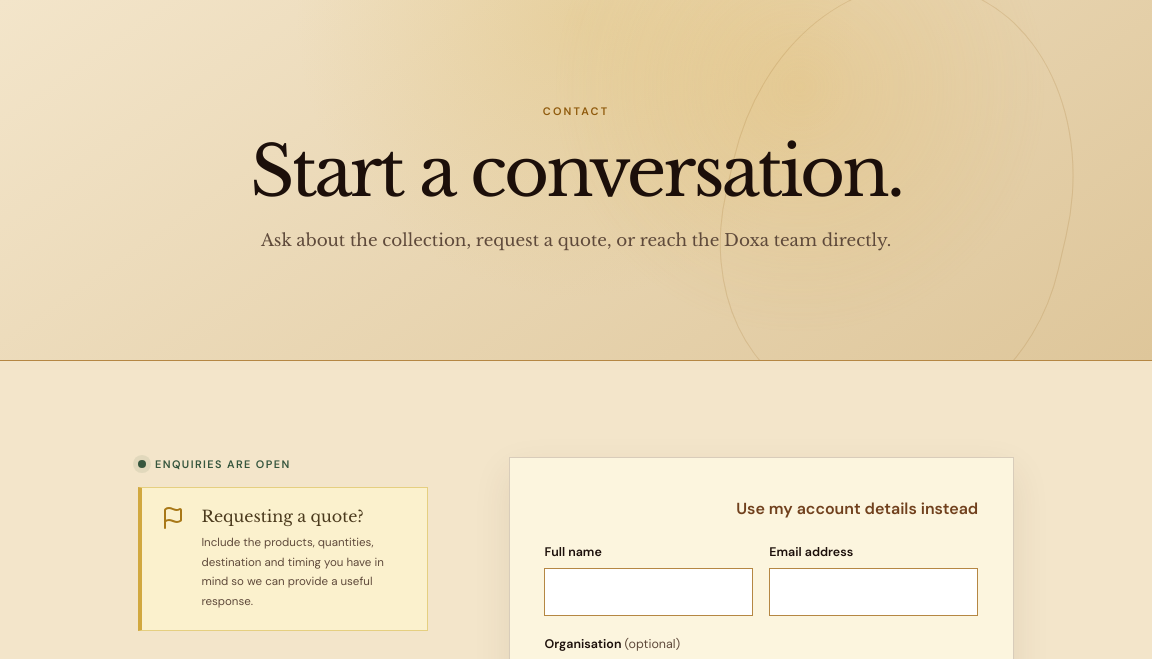
Scenario: contact account-detail autofill preference › keeps fields blank after an opt-out but permits a one-time account-details override
Expected: the field labelled "Full name" is empty, x1=544 y1=568 x2=753 y2=616
Expected: the field labelled "Email address" is empty, x1=769 y1=568 x2=978 y2=616
Click the button "Use my account details instead" at (857, 508), box x1=736 y1=492 x2=978 y2=524
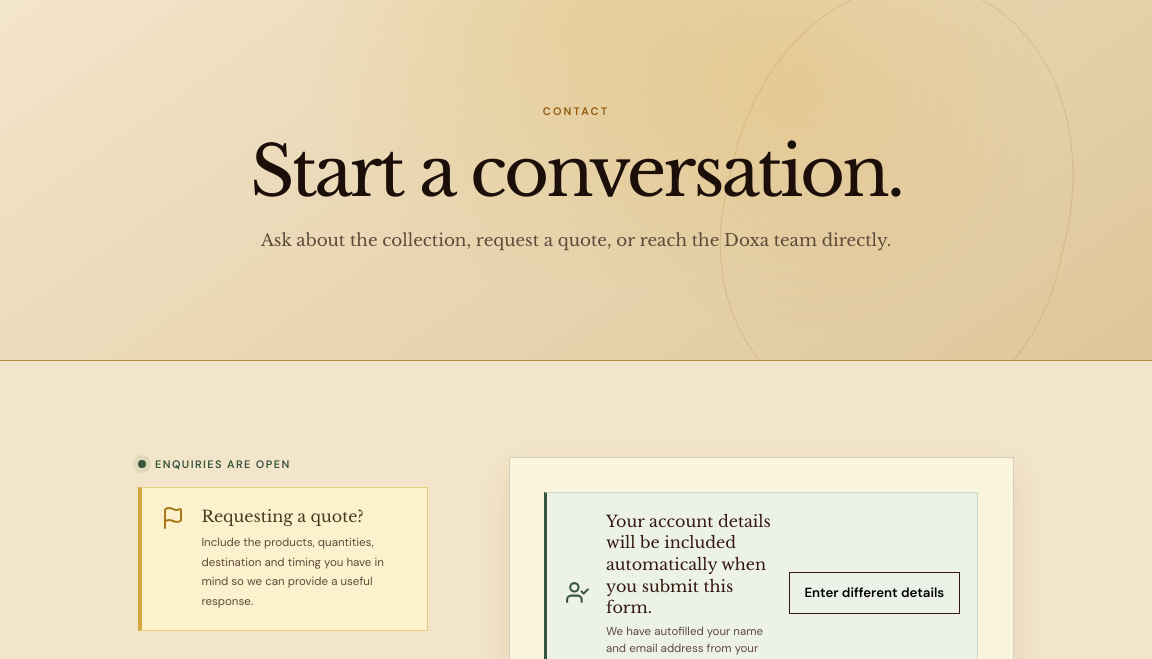
Expected: the text "Your account details will be included automatically when you submit this form." is shown, x1=606 y1=511 x2=773 y2=619
